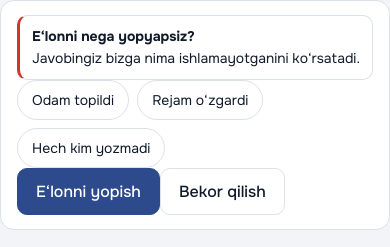
Scenario: ClosePostDialog › "hech kim yozmadi" NO_ANSWER bo‘lib yuboriladi
The image size is (390, 247).
Click the button "Hech kim yozmadi" at (91, 148), box [17,128,165,168]
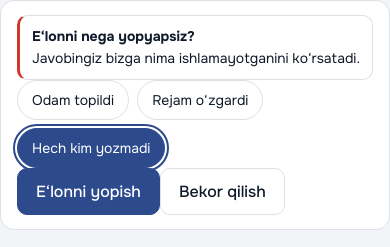
Click the button "E‘lonni yopish" at (88, 191), box [17,168,160,215]
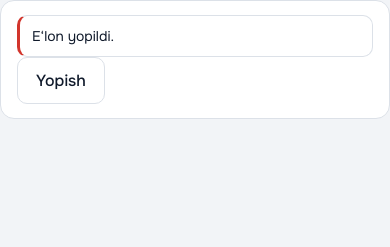
Check: the text "E‘lon yopildi." is shown, box [17,15,373,57]
